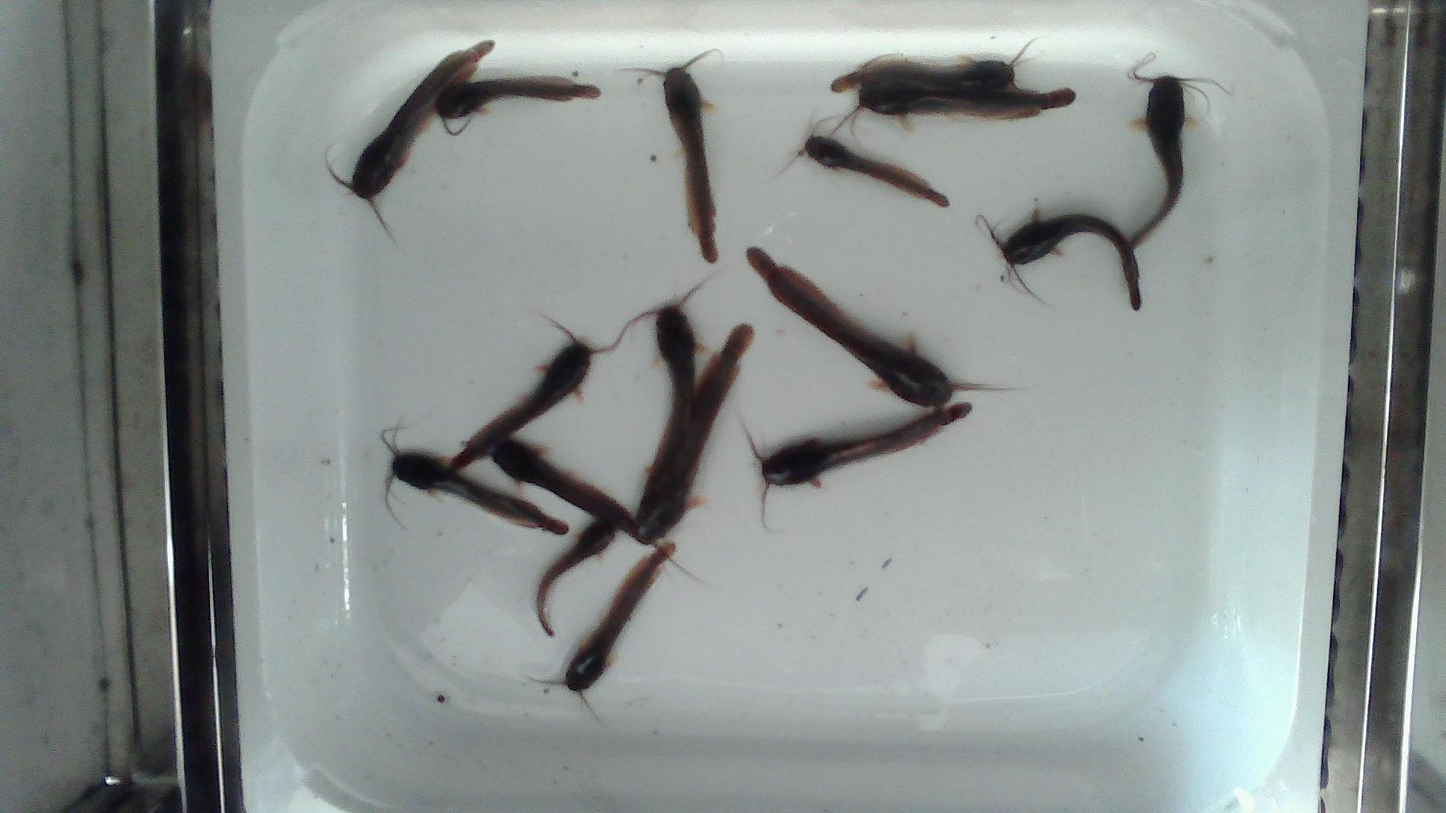lele: (748, 249, 976, 406), (329, 41, 493, 231), (447, 319, 634, 470), (747, 403, 972, 527), (632, 320, 754, 546), (532, 542, 676, 719), (1126, 53, 1233, 252), (629, 272, 714, 499), (383, 431, 569, 534), (974, 206, 1142, 312), (633, 52, 717, 262), (831, 81, 1080, 134), (829, 34, 1051, 93), (493, 439, 630, 529), (802, 136, 948, 206), (435, 76, 599, 136), (537, 517, 618, 633)
